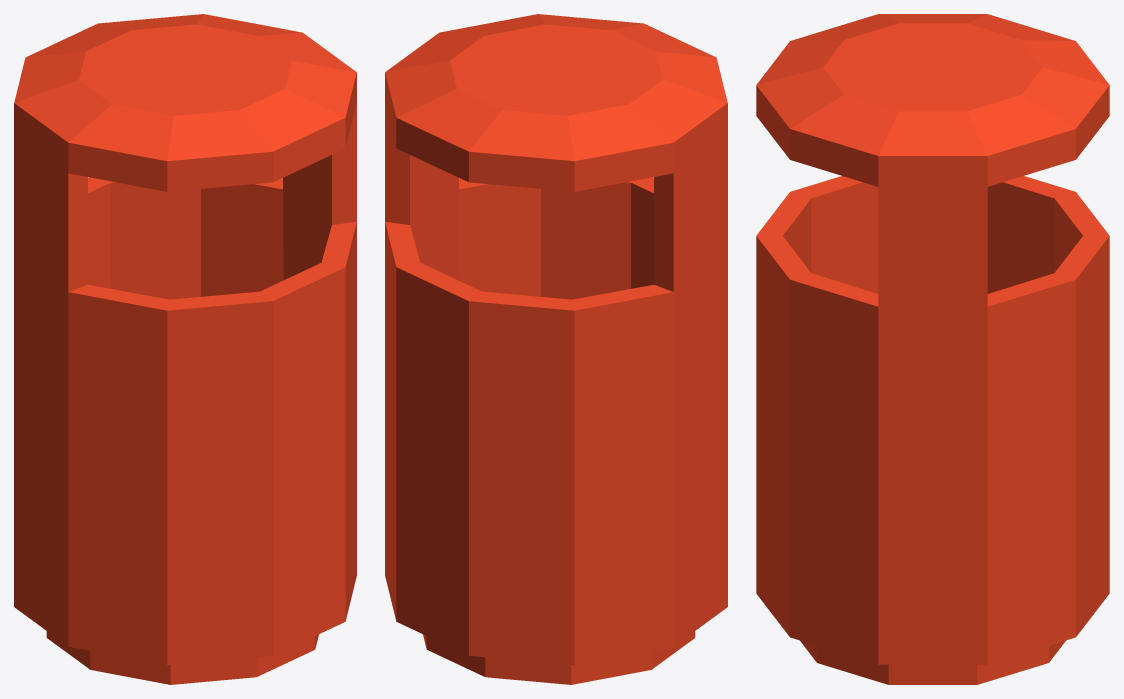
The model's file is SM_Bin_D_City.fbx.
3 views of the same model, side by side, from view 1: azimuth 30°, elevation 25°; view 2: azimuth 150°, elevation 25°; view 3: azimuth 270°, elevation 25° (orthographic).
Parts seen in each view (by area): view 1: SM_Bin_D_City; view 2: SM_Bin_D_City; view 3: SM_Bin_D_City.
Boxes of the visible parts, <box> form: SM_Bin_D_City: <box>14,14,356,684</box>; SM_Bin_D_City: <box>385,14,727,684</box>; SM_Bin_D_City: <box>756,14,1109,684</box>.
Bounding box in the file's own units: 0.5097 × 0.937 × 0.5359.
